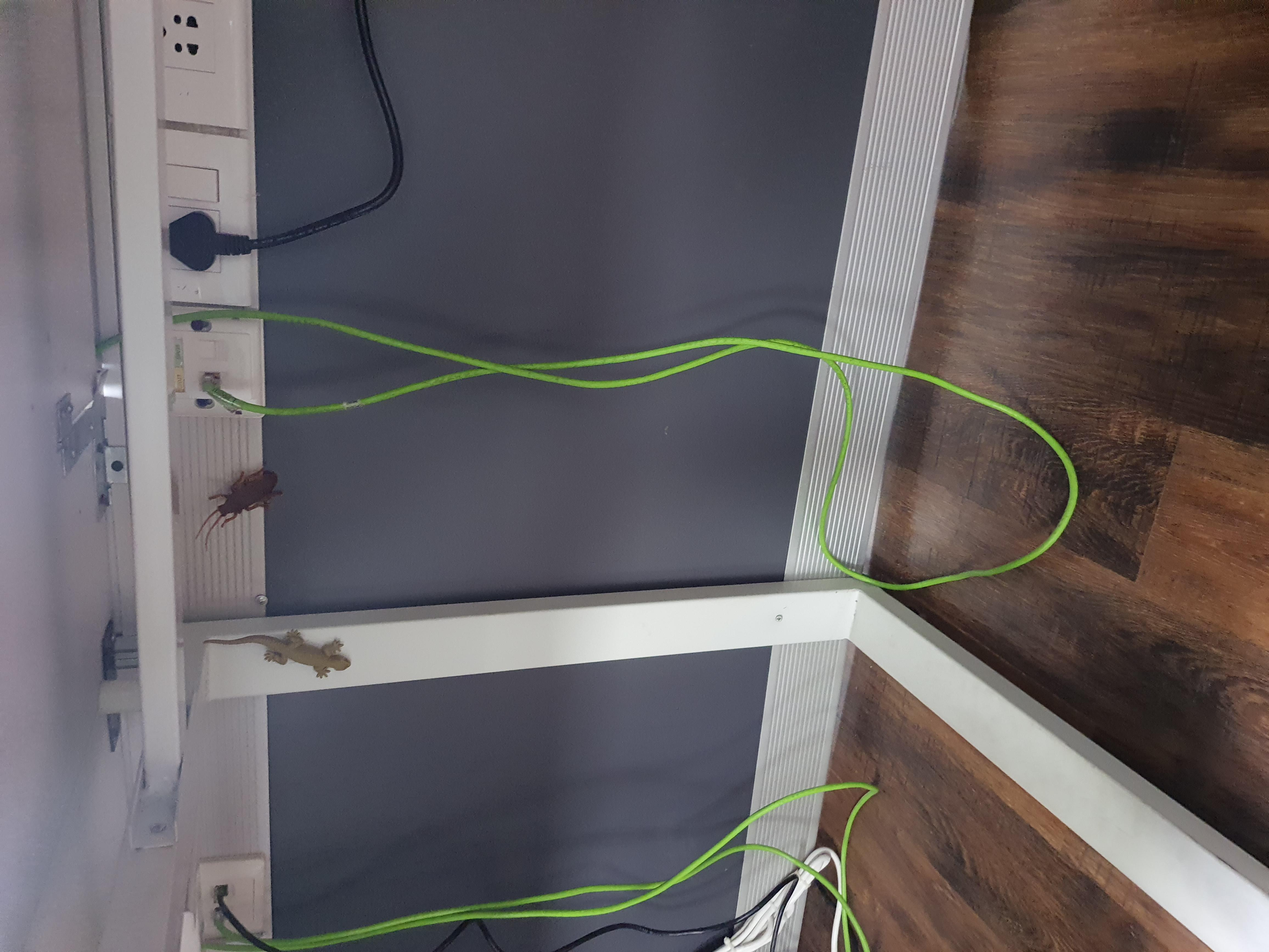cockroach: (529, 138, 659, 222)
lizard: (359, 145, 440, 268)
